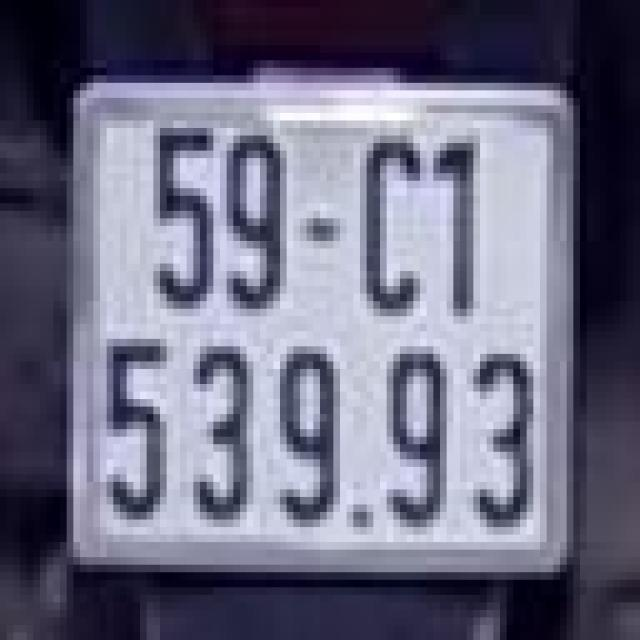1: (426, 117, 486, 320)
3: (186, 316, 266, 542), (463, 331, 537, 550)
5: (150, 98, 223, 324), (94, 320, 174, 523)
9: (377, 327, 463, 546), (270, 320, 350, 538), (223, 109, 290, 320)
C: (350, 125, 423, 312)
